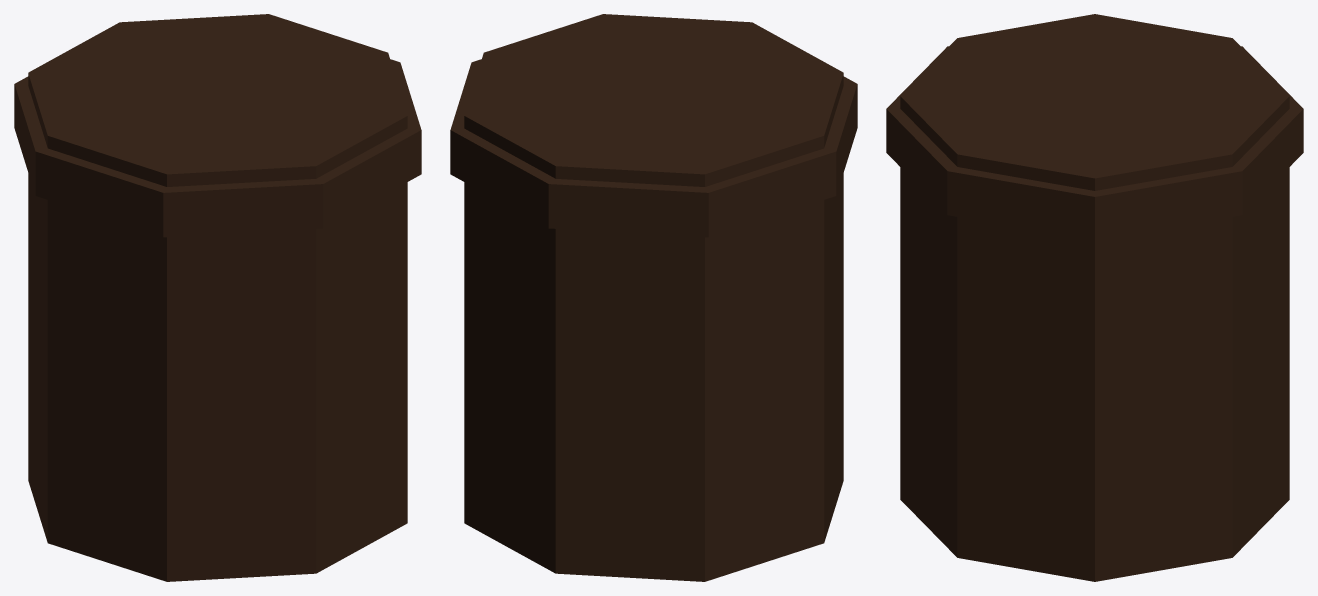
File: Tribal_Plains_Windmill_Grain_Post_Extension_Timber_01.fbx
3 views of the same model, side by side, from view 1: azimuth 30°, elevation 25°; view 2: azimuth 150°, elevation 25°; view 3: azimuth 270°, elevation 25° (orthographic).
Parts seen in each view (by area): view 1: Tribal_Plains_Windmill_Grain_Post_Extension_Timber_01; view 2: Tribal_Plains_Windmill_Grain_Post_Extension_Timber_01; view 3: Tribal_Plains_Windmill_Grain_Post_Extension_Timber_01.
Part boxes in pixels (x1,y1,x2,y2): Tribal_Plains_Windmill_Grain_Post_Extension_Timber_01: (14, 14, 421, 581); Tribal_Plains_Windmill_Grain_Post_Extension_Timber_01: (450, 14, 857, 581); Tribal_Plains_Windmill_Grain_Post_Extension_Timber_01: (886, 14, 1303, 581).
Size of the model in its own units: 0.7215 by 0.77 by 0.7215.
